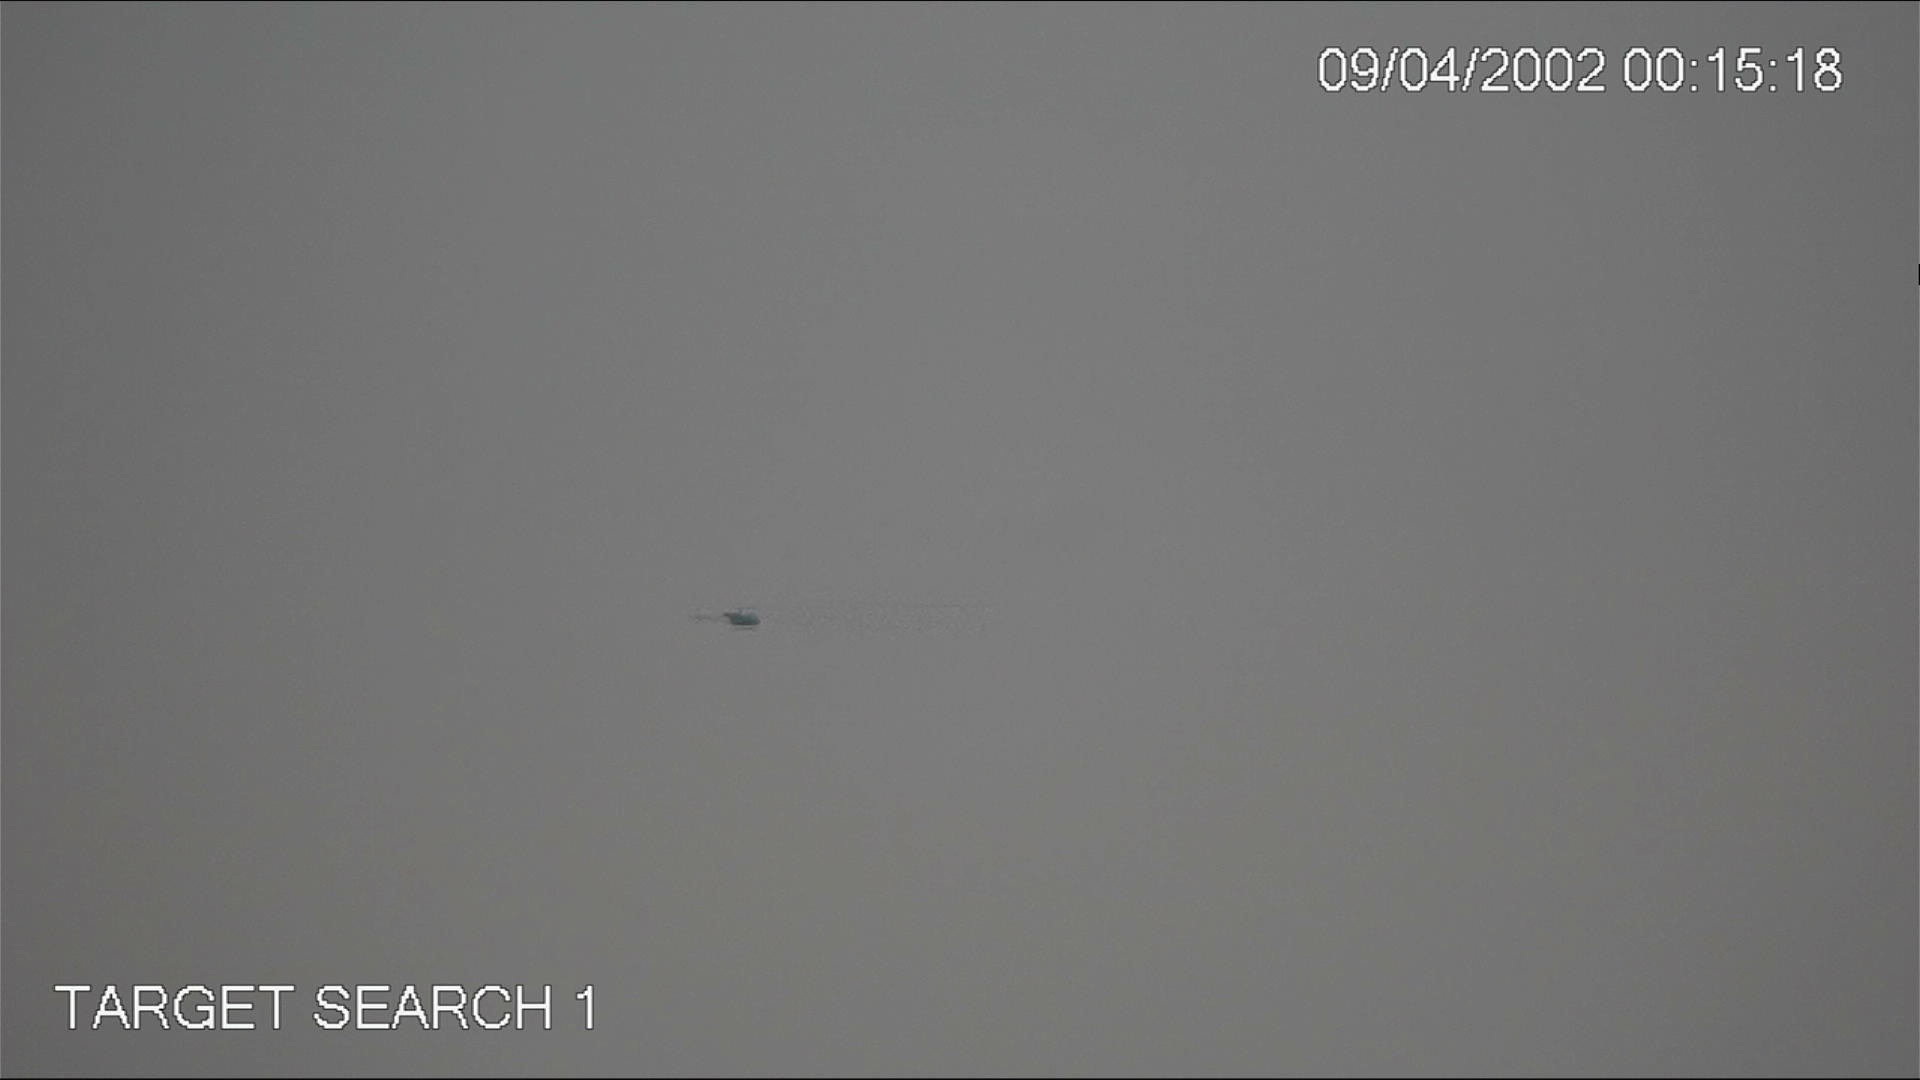SU_30: (695, 603, 769, 637)
